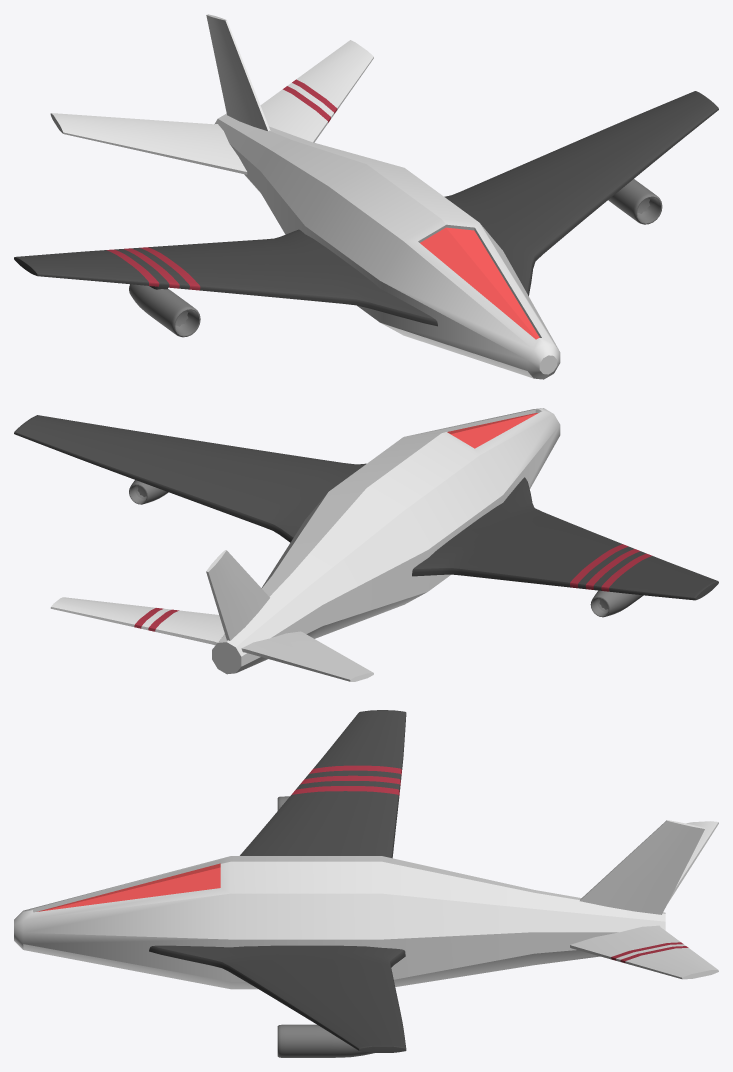
File: ship_2.fbx
3 renders of one model, top to bottom at view 1: azimuth 30°, elevation 25°; view 2: azimuth 150°, elevation 25°; view 3: azimuth 270°, elevation 25°, orthographic.
Visible parts, largest first — view 1: Wing_0, body, Wing_1; view 2: body, Wing_0, Wing_1; view 3: body, Wing_0, Wing_1.
Boxes of the visible parts, x1,y1,x2,y2 form: Wing_0: (14, 91, 718, 337); body: (214, 113, 560, 379); Wing_1: (50, 14, 373, 174); body: (212, 408, 560, 674); Wing_0: (14, 415, 718, 617); Wing_1: (50, 550, 373, 681); body: (14, 856, 665, 989); Wing_0: (149, 710, 406, 1057); Wing_1: (570, 820, 718, 979).
Size of the model in its own units: 970 by 219 by 857.
